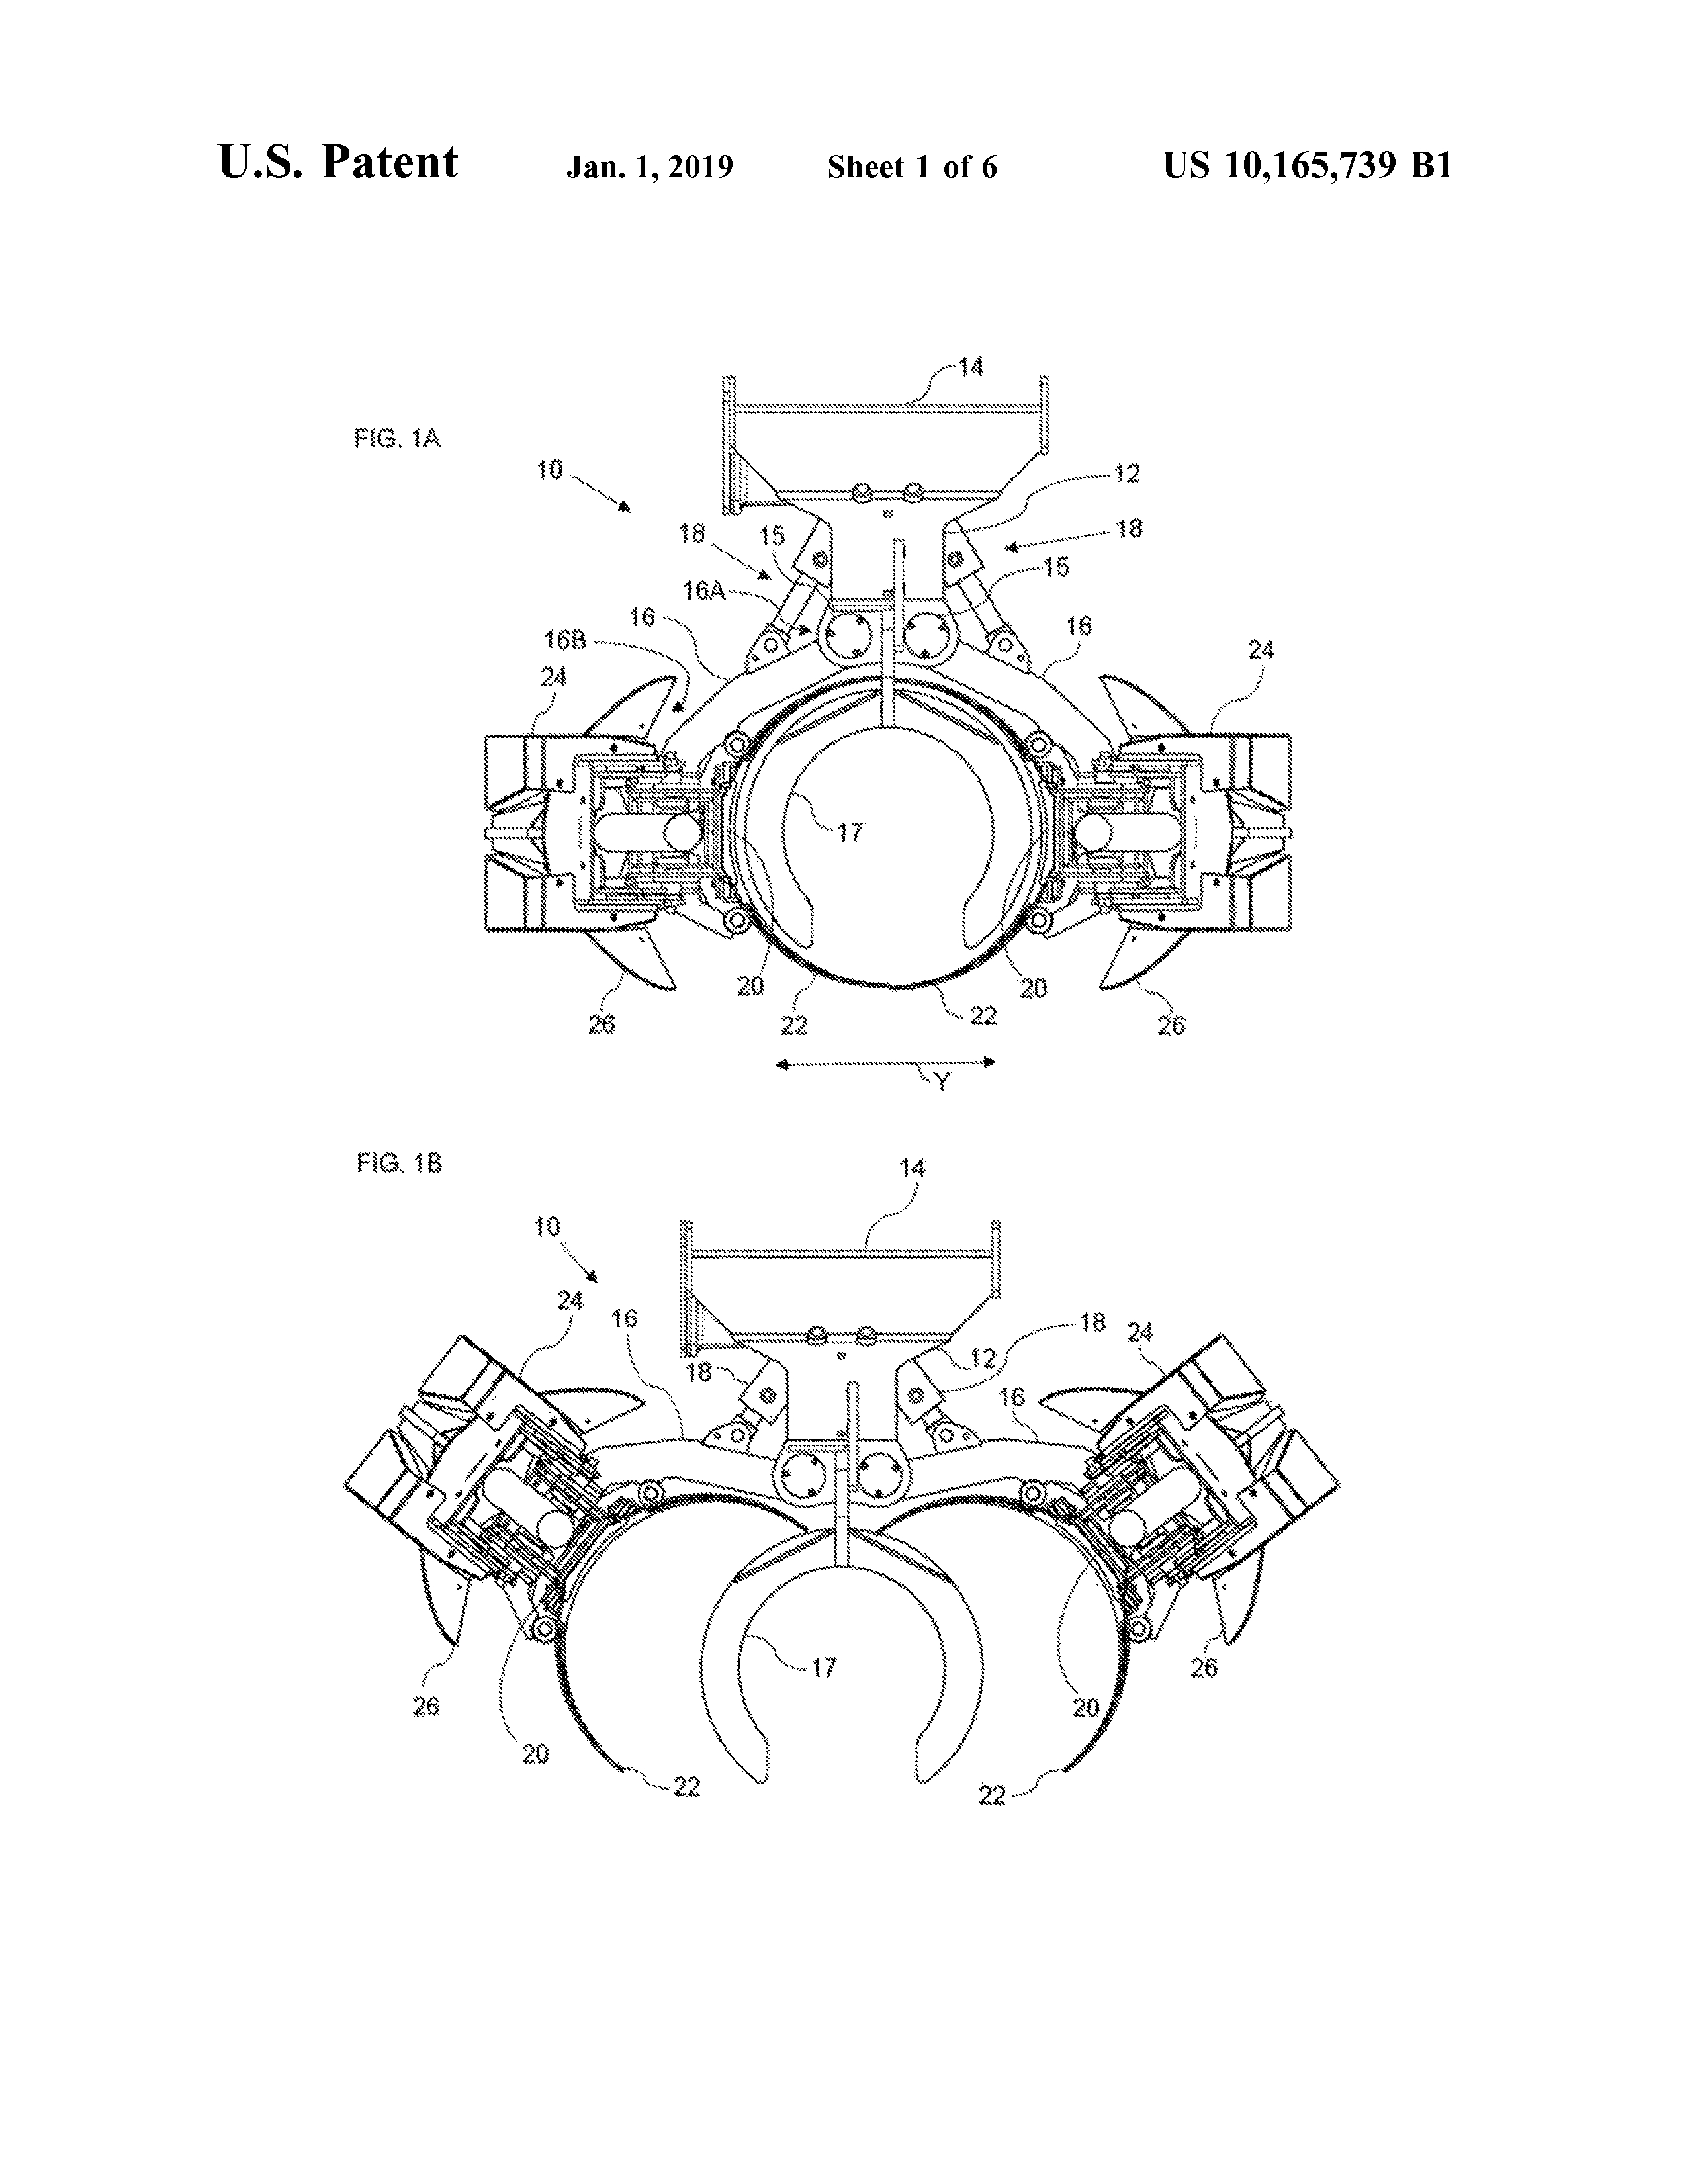patent image: (275, 339, 1422, 1100), (316, 1116, 1408, 1889)
